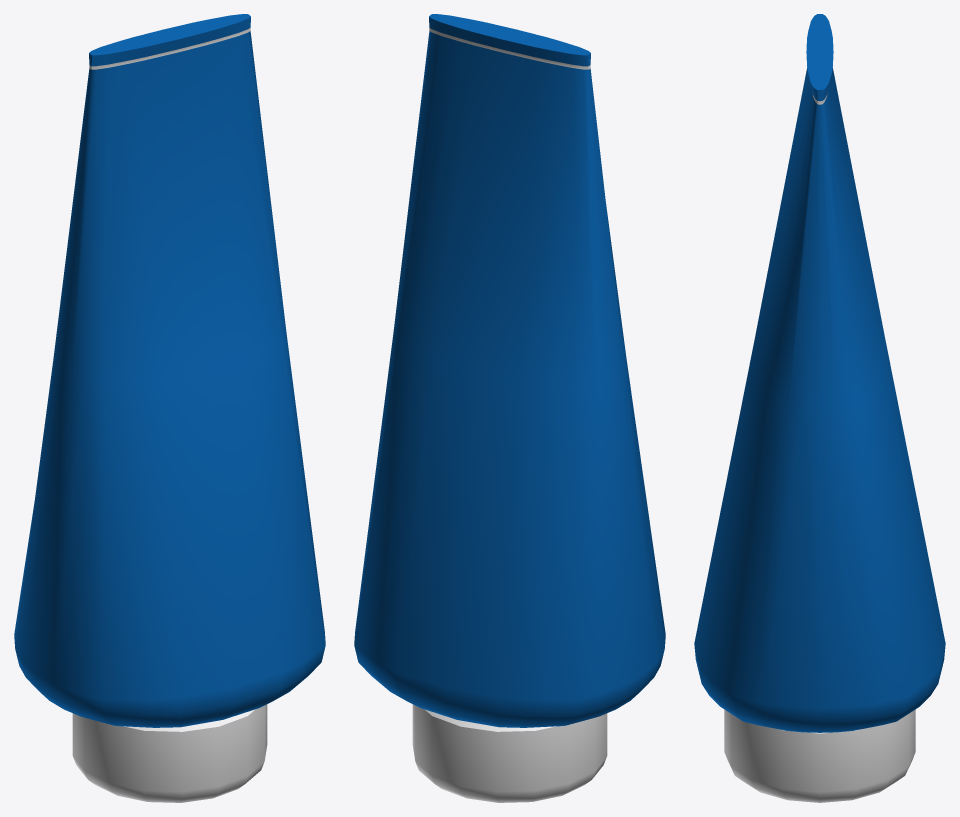
File: SunCream.fbx
3 renders of one model, left to right at view 1: azimuth 30°, elevation 25°; view 2: azimuth 150°, elevation 25°; view 3: azimuth 270°, elevation 25°, orthographic. The views are drawn at different scales.
Parts seen in each view (by area): view 1: SunCream; view 2: SunCream; view 3: SunCream.
Part boxes in pixels (x1,y1,x2,y2): SunCream: [14, 14, 325, 802]; SunCream: [354, 14, 665, 802]; SunCream: [694, 14, 945, 802].
Size of the model in its own units: 5.78 by 15 by 4.76.
